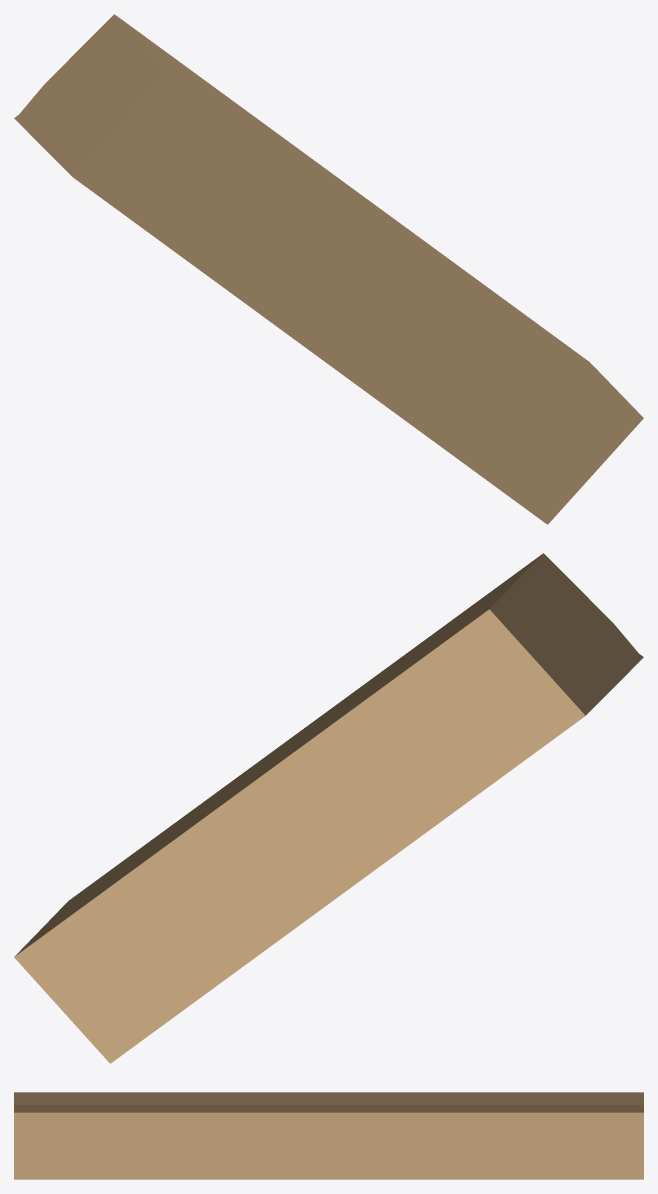
3 renders of one model, top to bottom at view 1: azimuth 30°, elevation 25°; view 2: azimuth 150°, elevation 25°; view 3: azimuth 270°, elevation 25°, orthographic. The views are drawn at different scales.
Parts seen in each view (by area): view 1: 0_1_3_2_1_1_2_0_0_2_3_0; view 2: 0_1_3_2_1_1_2_0_0_2_3_0; view 3: 0_1_3_2_1_1_2_0_0_2_3_0.
Boxes of the visible parts, bbox=[...] form: 0_1_3_2_1_1_2_0_0_2_3_0: bbox=[14, 14, 643, 524]; 0_1_3_2_1_1_2_0_0_2_3_0: bbox=[14, 553, 643, 1063]; 0_1_3_2_1_1_2_0_0_2_3_0: bbox=[14, 1092, 643, 1179].
Size of the model in its own units: 5.07 by 4.78 by 27.
